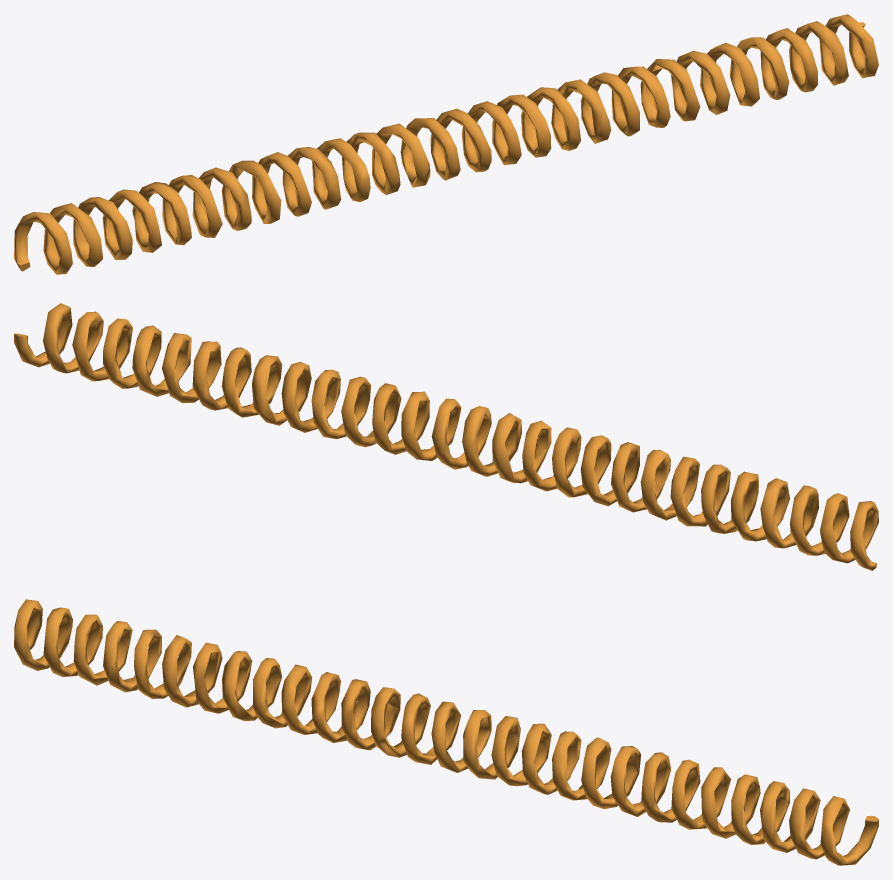
The model's file is mdl_Robin_ScrapbookSpiral.gltf.
3 views of the same model, one above another, from view 1: azimuth 30°, elevation 25°; view 2: azimuth 150°, elevation 25°; view 3: azimuth 330°, elevation 25° (orthographic).
Parts seen in each view (by area): view 1: Object_2; view 2: Object_2; view 3: Object_2.
Part boxes in pixels (bbox=[...]): Object_2: bbox=[14, 14, 878, 274]; Object_2: bbox=[14, 303, 878, 570]; Object_2: bbox=[14, 599, 878, 865].
Size of the model in its own units: 0.3061 by 0.0215 by 0.0218.
